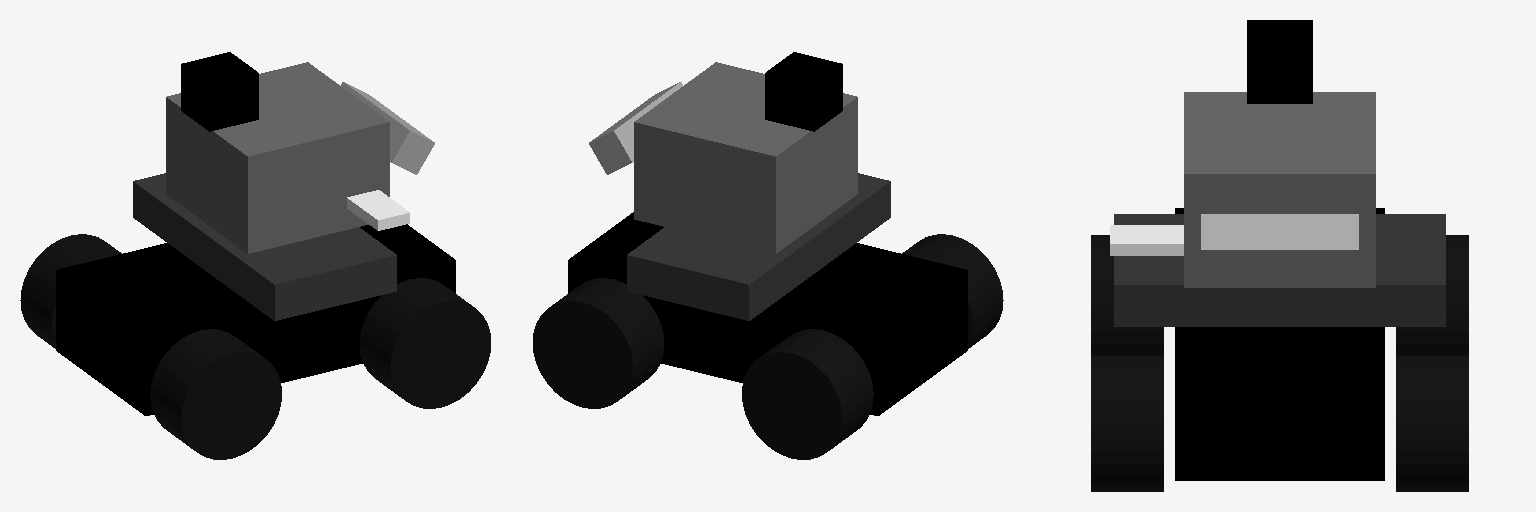
URDF robot description (differential_drive_robot_4wheel):
<?xml version="1.0" ?>
<!-- =================================================================================== -->
<!-- |    This document was autogenerated by xacro from ugv.xacro                      | -->
<!-- |    EDITING THIS FILE BY HAND IS NOT RECOMMENDED                                 | -->
<!-- =================================================================================== -->
<robot name="differential_drive_robot_4wheel">
  <!-- Aluminum -->
  <!-- Rubber -->
  <!-- Aluminum -->
  <!-- aluminum -->
  <!-- plastic-->
  <!-- plastic-->
  <!-- plastic-->
  <!-- Links -->
  <link name="base_link">
    <visual>
      <origin rpy="0 0 0" xyz="0 0 0"/>
      <geometry>
        <box size="0.24 0.12 0.06"/>
      </geometry>
      <material name="base_link_material">
        <color rgba="0.0 0.0 0.0 1.0"/>
      </material>
    </visual>
    <collision>
      <origin rpy="0 0 0" xyz="0 0 0"/>
      <geometry>
        <box size="0.24 0.12 0.06"/>
      </geometry>
    </collision>
    <inertial>
      <origin rpy="0 0 0" xyz="0 0 0"/>
      <mass value="4.6655999999999995"/>
      <inertia ixx="0.006998399999999998" ixy="0.0" ixz="0.0" iyy="0.023794559999999996" iyz="0.0" izz="0.027993599999999993"/>
    </inertial>
  </link>
  <link name="battery_link">
    <visual>
      <origin rpy="0 0 0" xyz="0 0 0"/>
      <geometry>
        <box size="0.095 0.19 0.027"/>
      </geometry>
      <material name="battery_link_material">
        <color rgba="0.25 0.25 0.25 1.0"/>
      </material>
    </visual>
    <collision>
      <origin rpy="0 0 0" xyz="0 0 0"/>
      <geometry>
        <box size="0.095 0.19 0.027"/>
      </geometry>
    </collision>
    <inertial>
      <origin rpy="0 0 0" xyz="0 0 0"/>
      <mass value="1.315845"/>
      <inertia ixx="0.00403843795875" ixy="0.0" ixz="0.0" iyy="0.0010695626775" iyz="0.0" izz="0.004948125468749999"/>
    </inertial>
  </link>
  <link name="orin_link">
    <visual>
      <origin rpy="0 0 0" xyz="0 0 0"/>
      <geometry>
        <box size="0.11 0.11 0.072"/>
      </geometry>
      <material name="orin_link_material">
        <color rgba="0.45 0.45 0.45 1.0"/>
      </material>
    </visual>
    <collision>
      <origin rpy="0 0 0" xyz="0 0 0"/>
      <geometry>
        <box size="0.11 0.11 0.072"/>
      </geometry>
    </collision>
    <inertial>
      <origin rpy="0 0 0" xyz="0 0 0"/>
      <mass value="2.3522399999999997"/>
      <inertia ixx="0.00338800968" ixy="0.0" ixz="0.0" iyy="0.00338800968" iyz="0.0" izz="0.004743683999999999"/>
    </inertial>
  </link>
  <link name="lidar_link">
    <visual>
      <origin rpy="0 0 0" xyz="0 0 0"/>
      <geometry>
        <box size="0.038 0.038 0.035"/>
      </geometry>
      <material name="lidar_link_material">
        <color rgba="0.0 0.0 0.0 1.0"/>
      </material>
    </visual>
    <collision>
      <origin rpy="0 0 0" xyz="0 0 0"/>
      <geometry>
        <box size="0.038 0.038 0.035"/>
      </geometry>
    </collision>
    <inertial>
      <origin rpy="0 0 0" xyz="0 0 0"/>
      <mass value="0.045486"/>
      <inertia ixx="1.01168445e-05" ixy="0.0" ixz="0.0" iyy="1.01168445e-05" iyz="0.0" izz="1.0946963999999999e-05"/>
    </inertial>
  </link>
  <link name="camera_link">
    <visual>
      <origin rpy="0 0 0" xyz="0 0 0"/>
      <geometry>
        <box size="0.024 0.09 0.025"/>
      </geometry>
      <material name="camera_link_material">
        <color rgba="0.7 0.7 0.7 1.0"/>
      </material>
    </visual>
    <collision>
      <origin rpy="0 0 0" xyz="0 0 0"/>
      <geometry>
        <box size="0.024 0.09 0.025"/>
      </geometry>
    </collision>
    <inertial>
      <origin rpy="0 0 0" xyz="0 0 0"/>
      <mass value="0.048600000000000004"/>
      <inertia ixx="3.533625e-05" ixy="0.0" ixz="0.0" iyy="4.8640500000000005e-06" iyz="0.0" izz="3.5137799999999994e-05"/>
    </inertial>
  </link>
  <link name="gps_link">
    <visual>
      <origin rpy="0 0 0" xyz="0 0 0"/>
      <geometry>
        <box size="0.025 0.042 0.008"/>
      </geometry>
      <material name="gps_link_material">
        <color rgba="1.0 1.0 1.0 1.0"/>
      </material>
    </visual>
    <collision>
      <origin rpy="0 0 0" xyz="0 0 0"/>
      <geometry>
        <box size="0.025 0.042 0.008"/>
      </geometry>
    </collision>
    <inertial>
      <origin rpy="0 0 0" xyz="0 0 0"/>
      <mass value="0.007560000000000001"/>
      <inertia ixx="1.1516400000000002e-06" ixy="0.0" ixz="0.0" iyy="4.3407000000000013e-07" iyz="0.0" izz="1.5050700000000004e-06"/>
    </inertial>
  </link>
  <link name="left_wheel_link">
    <visual>
      <origin rpy="1.5707963267948966 0 0" xyz="0 0 0"/>
      <!-- roll = pi/2 -->
      <geometry>
        <cylinder length="0.042" radius="0.039"/>
      </geometry>
      <material name="left_wheel_link_material">
        <color rgba="0.1 0.1 0.1 1.0"/>
      </material>
    </visual>
    <collision>
      <origin rpy="1.5707963267948966 0 0" xyz="0 0 0"/>
      <!-- roll = pi/2 -->
      <geometry>
        <cylinder length="0.042" radius="0.039"/>
      </geometry>
      <surface>
        <friction>
          <ode>
            <mu>1.5</mu>
            <mu2>0.5</mu2>
            <slip1>0.1</slip1>
            <slip2>0.3</slip2>
          </ode>
        </friction>
        <bounce/>
        <contact>
          <ode>
            <kp>1000.0</kp>
            <kd>10.0</kd>
          </ode>
        </contact>
      </surface>
    </collision>
    <inertial>
      <origin rpy="0 0 0" xyz="0 0 0"/>
      <mass value="0.1806220997069609"/>
      <inertia ixx="0.00013736310682714375" ixy="0.0" ixz="0.0" iyy="9.523300207049513e-05" iyz="0.0" izz="9.523300207049513e-05"/>
    </inertial>
  </link>
  <link name="right_wheel_link">
    <visual>
      <origin rpy="1.5707963267948966 0 0" xyz="0 0 0"/>
      <!-- roll = pi/2 -->
      <geometry>
        <cylinder length="0.042" radius="0.039"/>
      </geometry>
      <material name="right_wheel_link_material">
        <color rgba="0.1 0.1 0.1 1.0"/>
      </material>
    </visual>
    <collision>
      <origin rpy="1.5707963267948966 0 0" xyz="0 0 0"/>
      <!-- roll = pi/2 -->
      <geometry>
        <cylinder length="0.042" radius="0.039"/>
      </geometry>
      <surface>
        <friction>
          <ode>
            <mu>1.5</mu>
            <mu2>0.5</mu2>
            <slip1>0.1</slip1>
            <slip2>0.3</slip2>
          </ode>
        </friction>
        <bounce/>
        <contact>
          <ode>
            <kp>1000.0</kp>
            <kd>10.0</kd>
          </ode>
        </contact>
      </surface>
    </collision>
    <inertial>
      <origin rpy="0 0 0" xyz="0 0 0"/>
      <mass value="0.1806220997069609"/>
      <inertia ixx="0.00013736310682714375" ixy="0.0" ixz="0.0" iyy="9.523300207049513e-05" iyz="0.0" izz="9.523300207049513e-05"/>
    </inertial>
  </link>
  <link name="left_wheel2_link">
    <visual>
      <origin rpy="1.5707963267948966 0 0" xyz="0 0 0"/>
      <!-- roll = pi/2 -->
      <geometry>
        <cylinder length="0.042" radius="0.039"/>
      </geometry>
      <material name="left_wheel2_link_material">
        <color rgba="0.1 0.1 0.1 1.0"/>
      </material>
    </visual>
    <collision>
      <origin rpy="1.5707963267948966 0 0" xyz="0 0 0"/>
      <!-- roll = pi/2 -->
      <geometry>
        <cylinder length="0.042" radius="0.039"/>
      </geometry>
      <surface>
        <friction>
          <ode>
            <mu>1.5</mu>
            <mu2>0.5</mu2>
            <slip1>0.1</slip1>
            <slip2>0.3</slip2>
          </ode>
        </friction>
        <bounce/>
        <contact>
          <ode>
            <kp>1000.0</kp>
            <kd>10.0</kd>
          </ode>
        </contact>
      </surface>
    </collision>
    <inertial>
      <origin rpy="0 0 0" xyz="0 0 0"/>
      <mass value="0.1806220997069609"/>
      <inertia ixx="0.00013736310682714375" ixy="0.0" ixz="0.0" iyy="9.523300207049513e-05" iyz="0.0" izz="9.523300207049513e-05"/>
    </inertial>
  </link>
  <link name="right_wheel2_link">
    <visual>
      <origin rpy="1.5707963267948966 0 0" xyz="0 0 0"/>
      <!-- roll = pi/2 -->
      <geometry>
        <cylinder length="0.042" radius="0.039"/>
      </geometry>
      <material name="right_wheel2_link_material">
        <color rgba="0.1 0.1 0.1 1.0"/>
      </material>
    </visual>
    <collision>
      <origin rpy="1.5707963267948966 0 0" xyz="0 0 0"/>
      <!-- roll = pi/2 -->
      <geometry>
        <cylinder length="0.042" radius="0.039"/>
      </geometry>
      <surface>
        <friction>
          <ode>
            <mu>1.5</mu>
            <mu2>0.5</mu2>
            <slip1>0.1</slip1>
            <slip2>0.3</slip2>
          </ode>
        </friction>
        <bounce/>
        <contact>
          <ode>
            <kp>1000.0</kp>
            <kd>10.0</kd>
          </ode>
        </contact>
      </surface>
    </collision>
    <inertial>
      <origin rpy="0 0 0" xyz="0 0 0"/>
      <mass value="0.1806220997069609"/>
      <inertia ixx="0.00013736310682714375" ixy="0.0" ixz="0.0" iyy="9.523300207049513e-05" iyz="0.0" izz="9.523300207049513e-05"/>
    </inertial>
  </link>
  <link name="base_footprint">
    <inertial>
      <mass value="0.000001"/>
      <origin rpy="0 0 0" xyz="0 0 0"/>
      <inertia ixx="1e-6" ixy="0" ixz="0" iyy="1e-6" iyz="0" izz="1e-6"/>
    </inertial>
  </link>
  <link name="camera_optical_link"/>
  <!-- Joints -->
  <joint name="base_footprint_joint" type="fixed">
    <parent link="base_footprint"/>
    <child link="base_link"/>
    <origin rpy="0 0 0" xyz="0 0 0.051000000000000004"/>
  </joint>
  <!-- Left Wheel Joint -->
  <joint name="left_wheel_joint" type="continuous">
    <origin rpy="0 0 0" xyz="-0.08099999999999999 0.08700000000000001 -0.012"/>
    <parent link="base_link"/>
    <child link="left_wheel_link"/>
    <axis xyz="0 1 0"/>
    <limit effort="100" velocity="100.0"/>
    <dynamics damping="1.0" friction="0.1"/>
  </joint>
  <!-- Right Wheel Joint -->
  <joint name="right_wheel_joint" type="continuous">
    <origin rpy="0 0 0" xyz="-0.08099999999999999 -0.08700000000000001 -0.012"/>
    <parent link="base_link"/>
    <child link="right_wheel_link"/>
    <axis xyz="0 1 0"/>
    <limit effort="100" velocity="100.0"/>
    <dynamics damping="1.0" friction="0.1"/>
  </joint>
  <!-- Left Wheel2 Joint -->
  <joint name="left_wheel2_joint" type="continuous">
    <origin rpy="0 0 0" xyz="0.08099999999999999 0.08700000000000001 -0.012"/>
    <parent link="base_link"/>
    <child link="left_wheel2_link"/>
    <axis xyz="0 1 0"/>
    <limit effort="100" velocity="100.0"/>
    <dynamics damping="1.0" friction="0.1"/>
  </joint>
  <!-- Right Wheel2 Joint -->
  <joint name="right_wheel2_joint" type="continuous">
    <origin rpy="0 0 0" xyz="0.08099999999999999 -0.08700000000000001 -0.012"/>
    <parent link="base_link"/>
    <child link="right_wheel2_link"/>
    <axis xyz="0 1 0"/>
    <limit effort="100" velocity="100.0"/>
    <dynamics damping="1.0" friction="0.1"/>
  </joint>
  <!-- battery joint -->
  <joint name="battery_joint" type="fixed">
    <origin rpy="0 0 0" xyz=".007 0 0.049499999999999995"/>
    <parent link="base_link"/>
    <child link="battery_link"/>
  </joint>
  <!-- orin joint -->
  <joint name="orin_joint" type="fixed">
    <origin rpy="0 0 0" xyz=".010 0 0.055499999999999994"/>
    <parent link="battery_link"/>
    <child link="orin_link"/>
  </joint>
  <!-- lidar joint -->
  <joint name="lidar_joint" type="fixed">
    <origin rpy="0 0 0" xyz="-.045 0 0.0595"/>
    <parent link="orin_link"/>
    <child link="lidar_link"/>
  </joint>
  <!-- camera joint -->
  <joint name="d435_joint" type="fixed">
    <origin rpy="0 0.6108666666666667 0" xyz="0.079 0 0.003499999999999996"/>
    <parent link="orin_link"/>
    <child link="camera_link"/>
  </joint>
  <!-- optical frame ${-3.1415927/2} 0 ${-3.1415927/2} -->
  <joint name="camera_optical_joint" type="fixed">
    <origin rpy="0 0 0" xyz="0 0 0"/>
    <parent link="camera_link"/>
    <child link="camera_optical_link"/>
  </joint>
  <!-- gps joint -->
  <joint name="gps_joint" type="fixed">
    <origin rpy="0 0 0" xyz="0.034 -0.076 -0.015999999999999997"/>
    <parent link="orin_link"/>
    <child link="gps_link"/>
  </joint>
  <!-- Gazebo Parameters -->
  <!--
    <gazebo reference="base_link">
        <mu1>1.0</mu1>
        <mu2>0.5</mu2>
        <slip1>0.1</slip1>
        <slip2>0.2</slip2>
    </gazebo>

    <gazebo reference="right_wheel_link">
        <mu1>1.0</mu1>
        <mu2>0.5</mu2>
        <slip1>0.1</slip1>
        <slip2>0.2</slip2>
    </gazebo>

    <gazebo reference="left_wheel_link">
        <mu1>1.0</mu1>
        <mu2>0.5</mu2>
        <slip1>0.1</slip1>
        <slip2>0.2</slip2>
    </gazebo>

    <gazebo reference="right_wheel2_link">
        <mu1>1.0</mu1>
        <mu2>0.5</mu2>
        <slip1>0.1</slip1>
        <slip2>0.2</slip2>
    </gazebo>

    <gazebo reference="left_wheel2_link">
        <mu1>1.0</mu1>
        <mu2>0.5</mu2>
        <slip1>0.1</slip1>
        <slip2>0.2</slip2>
    </gazebo>
    -->
  <!-- Gazebo Plugins -->
  <gazebo>
    <plugin filename="gz-sim-diff-drive-system" name="gz::sim::systems::DiffDrive">
      <right_joint>right_wheel_joint</right_joint>
      <left_joint>left_wheel_joint</left_joint>
      <right_joint>right_wheel2_joint</right_joint>
      <left_joint>left_wheel2_joint</left_joint>
      <wheel_separation>0.28188</wheel_separation>
      <wheel_radius>0.039</wheel_radius>
      <max_linear_acceleration>10</max_linear_acceleration>
      <odom_publish_frequency>100</odom_publish_frequency>
      <topic>cmd_vel</topic>
      <odom_topic>odom</odom_topic>
      <frame_id>odom</frame_id>
      <child_frame_id>base_footprint</child_frame_id>
      <tf_topic>/tf</tf_topic>
    </plugin>
    <plugin filename="gz-sim-joint-state-publisher-system" name="gz::sim::systems::JointStatePublisher">
      <topic>joint_states</topic>
      <joint_name>right_wheel_joint</joint_name>
      <joint_name>left_wheel_joint</joint_name>
      <joint_name>right_wheel2_joint</joint_name>
      <joint_name>left_wheel2_joint</joint_name>
    </plugin>
    <!-- <plugin filename="gz-sim-pose-publisher-system"  name="gz::sim::systems::PosePublisher">
            <publish_model_pose>true</publish_model_pose>
            <use_pose_vector_msg>true</use_pose_vector_msg>
            <update_frequency>-1</update_frequency>
        </plugin> -->
  </gazebo>
  <!-- Gazebo sensors -->
  <gazebo reference="camera_link">
    <sensor name="color_camera" type="rgbd_camera">
      <pose>0.0 0.0 0 0 0 0</pose>
      <always_on>true</always_on>
      <visualize>true</visualize>
      <update_rate>30</update_rate>
      <topic>/camera</topic>
      <gz_frame_id>camera_optical_link</gz_frame_id>
      <camera name="intel_realsense_r200">
        <horizontal_fov>1.02974</horizontal_fov>
        <image>
          <width>640</width>
          <height>480</height>
          <format>R8G8B8</format>
        </image>
        <clip>
          <near>0.05</near>
          <far>200</far>
        </clip>
        <noise>
          <type>gaussian</type>
          <!-- Noise is sampled independently per pixel on each frame.
                  That pixel's noise value is added to each of its color
                  channels, which at that point lie in the range [0,1]. -->
          <mean>0.0</mean>
          <stddev>0.007</stddev>
        </noise>
      </camera>
    </sensor>
  </gazebo>
  <gazebo reference="lidar_link">
    <sensor name="hls_lfcd_lds" type="gpu_lidar">
      <always_on>true</always_on>
      <visualize>true</visualize>
      <pose>0 0 0.012 0 -0 0</pose>
      <update_rate>10</update_rate>
      <topic>scan</topic>
      <gz_frame_id>lidar_link</gz_frame_id>
      <lidar>
        <scan>
          <horizontal>
            <samples>360</samples>
            <resolution>1.000000</resolution>
            <min_angle>0.000000</min_angle>
            <max_angle>6.280000</max_angle>
          </horizontal>
        </scan>
        <range>
          <min>0.160000</min>
          <max>10.0</max>
          <resolution>0.015000</resolution>
        </range>
        <noise>
          <type>gaussian</type>
          <mean>0.0</mean>
          <stddev>0.01</stddev>
        </noise>
      </lidar>
    </sensor>
  </gazebo>
  <gazebo reference="base_link">
    <sensor name="ugv_imu" type="imu">
      <always_on>true</always_on>
      <update_rate>20</update_rate>
      <topic>imu</topic>
      <gz_frame_id>base_link</gz_frame_id>
      <imu>
        <angular_velocity>
          <x>
            <noise type="gaussian">
              <mean>0.0</mean>
              <stddev>2e-4</stddev>
            </noise>
          </x>
          <y>
            <noise type="gaussian">
              <mean>0.0</mean>
              <stddev>2e-4</stddev>
            </noise>
          </y>
          <z>
            <noise type="gaussian">
              <mean>0.0</mean>
              <stddev>2e-4</stddev>
            </noise>
          </z>
        </angular_velocity>
        <linear_acceleration>
          <x>
            <noise type="gaussian">
              <mean>0.0</mean>
              <stddev>1.7e-2</stddev>
            </noise>
          </x>
          <y>
            <noise type="gaussian">
              <mean>0.0</mean>
              <stddev>1.7e-2</stddev>
            </noise>
          </y>
          <z>
            <noise type="gaussian">
              <mean>0.0</mean>
              <stddev>1.7e-2</stddev>
            </noise>
          </z>
        </linear_acceleration>
      </imu>
    </sensor>
  </gazebo>
</robot>

--- Facts derived from the render (not from the file) ---
The picture shows the robot from 3 angles, left to right: view 1: azimuth 30°, elevation 25°; view 2: azimuth 150°, elevation 25°; view 3: azimuth 270°, elevation 25°; orthographic projection.
Model differential_drive_robot_4wheel with 12 links and 11 joints (4 continuous, 7 fixed), rooted at base_footprint, posed all joints at 0.
Links seen in each view (by area): view 1: base_link, orin_link, battery_link, right_wheel_link, right_wheel2_link, lidar_link, left_wheel_link, camera_link, gps_link; view 2: orin_link, base_link, battery_link, left_wheel_link, left_wheel2_link, lidar_link, right_wheel_link, camera_link; view 3: base_link, orin_link, battery_link, left_wheel2_link, right_wheel2_link, camera_link, lidar_link, left_wheel_link, right_wheel_link, gps_link.
Link boxes in pixels (x1,y1,x2,y2): base_link: (56, 224, 455, 415); orin_link: (166, 62, 389, 253); battery_link: (133, 173, 396, 320); right_wheel_link: (150, 329, 281, 459); right_wheel2_link: (359, 278, 490, 408); lidar_link: (181, 52, 258, 131); left_wheel_link: (20, 234, 121, 348); camera_link: (341, 82, 434, 174); gps_link: (347, 190, 409, 230); orin_link: (634, 62, 857, 253); base_link: (568, 212, 967, 415); battery_link: (627, 173, 890, 320); left_wheel_link: (742, 329, 873, 459); left_wheel2_link: (533, 278, 664, 408); lidar_link: (765, 52, 842, 131); right_wheel_link: (902, 234, 1003, 348); camera_link: (589, 82, 682, 174); base_link: (1175, 208, 1384, 480); orin_link: (1184, 92, 1375, 287); battery_link: (1114, 214, 1445, 326); left_wheel2_link: (1396, 355, 1468, 491); right_wheel2_link: (1091, 355, 1163, 491); camera_link: (1201, 214, 1358, 271); lidar_link: (1247, 20, 1312, 103); left_wheel_link: (1396, 235, 1468, 354); right_wheel_link: (1091, 235, 1163, 354); gps_link: (1110, 225, 1183, 255).
Bounding box of the posed robot: 0.24 × 0.216 × 0.233 m (x, y, z).
Geometry: primitives only (box / cylinder / sphere), no mesh files.